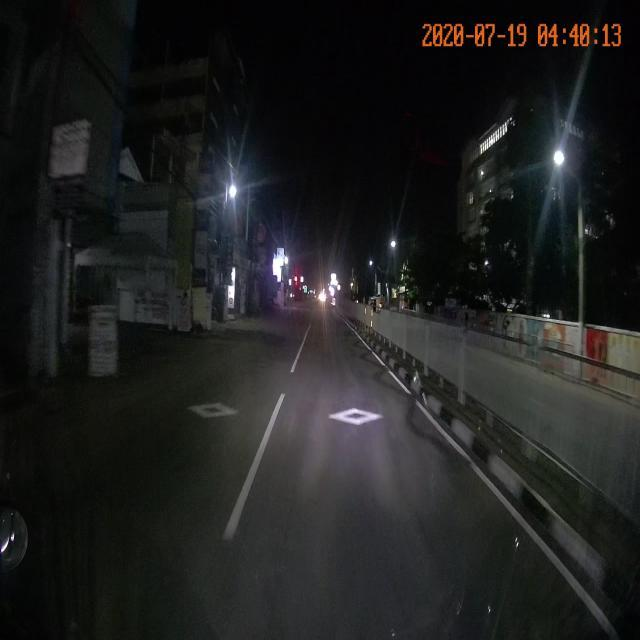diamond: (265, 406, 442, 435)
